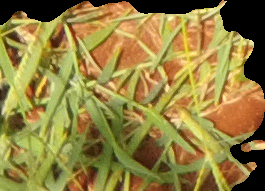grass: (1, 1, 263, 190)
